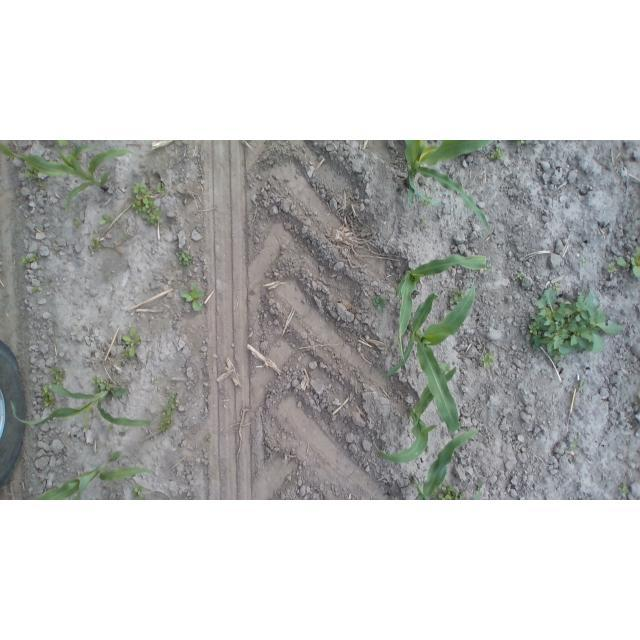Maize: (382, 278, 479, 437), (395, 251, 488, 368), (1, 142, 139, 211), (399, 140, 497, 232), (373, 364, 457, 465), (10, 383, 152, 429), (33, 450, 156, 500), (408, 426, 480, 500)
Weeds: (528, 281, 624, 358), (131, 182, 163, 229), (157, 392, 181, 432), (180, 282, 204, 313), (122, 328, 141, 359), (438, 485, 465, 500), (40, 384, 56, 408), (49, 366, 67, 384), (630, 246, 640, 278), (92, 375, 113, 390), (372, 295, 388, 313), (490, 146, 507, 162), (479, 352, 496, 368), (450, 287, 465, 305), (131, 485, 146, 500), (24, 167, 41, 180), (178, 250, 191, 266), (618, 482, 630, 498), (606, 260, 618, 276), (422, 192, 433, 207), (98, 215, 114, 225), (617, 257, 629, 268), (90, 236, 101, 248), (72, 216, 84, 226), (510, 141, 527, 148), (103, 424, 116, 433), (569, 440, 579, 449), (440, 363, 450, 372), (516, 273, 526, 282), (20, 255, 29, 265), (30, 286, 39, 295), (552, 282, 560, 291), (579, 381, 586, 391), (59, 140, 67, 148), (38, 183, 47, 190), (421, 218, 428, 226), (29, 253, 35, 261), (205, 435, 211, 442), (104, 272, 109, 280), (116, 360, 121, 365)
